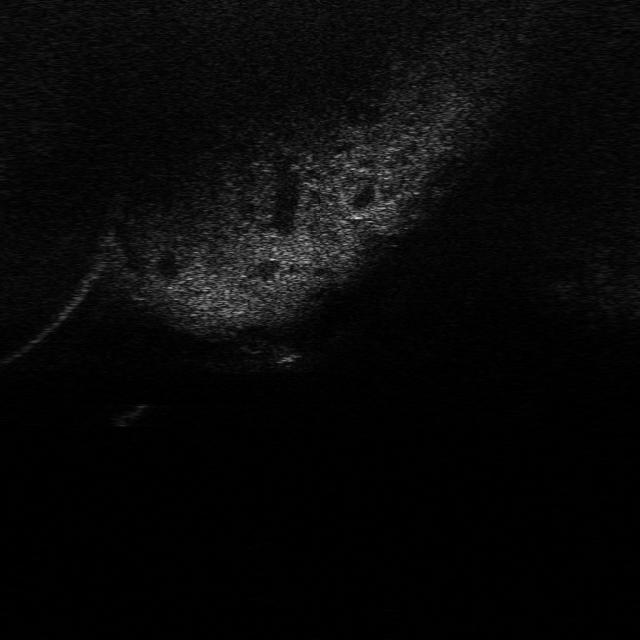cube: (266, 343, 306, 368)
cylinder: (107, 403, 151, 426)
